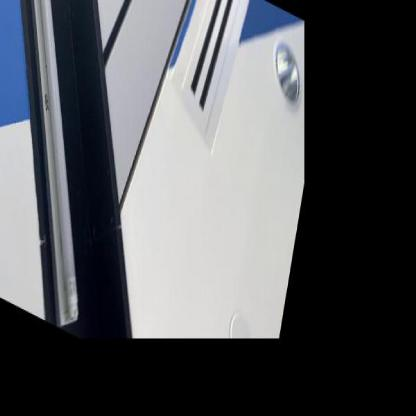light_off: (0, 0, 142, 340)
